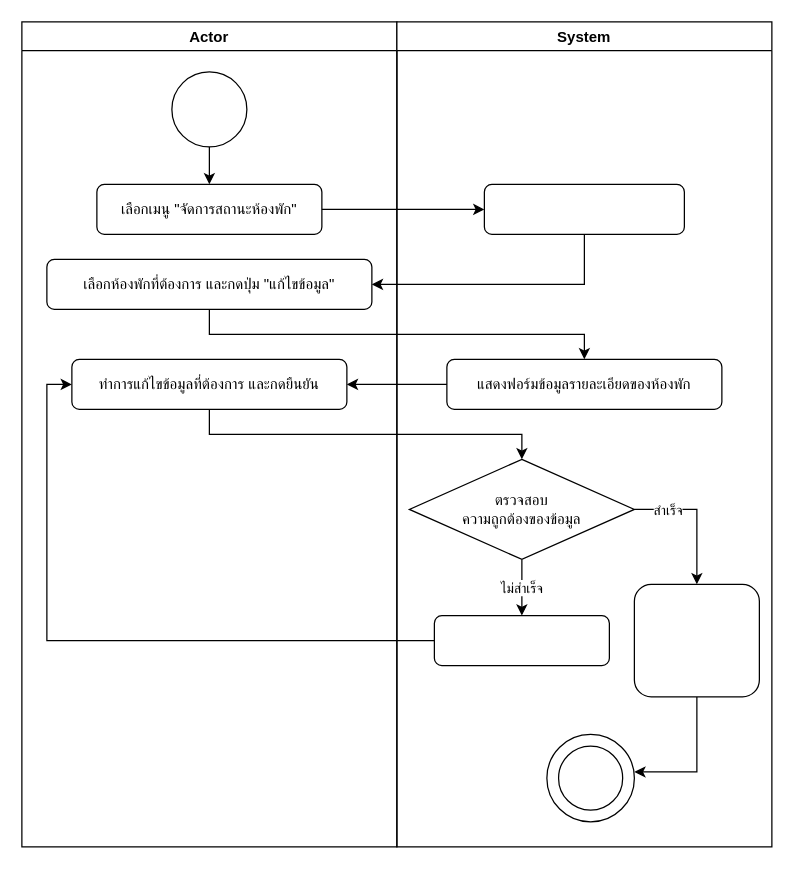
Image size: 794x869. Some labels were removed from this diagram. Here are the shapes that lost their labels. From the top down, the centre of each, then its label:
(583,208): แสดงรายการห้องพักทั้งหมด พร้อมสถานะปัจจุบัน
(521,640): แสดง Modal แจ้งเตือนข้อผิดพลาด
(696,640): บันทึกข้อมูลใหม่ และขึ้น Modal "แก้ไขข้อมูลห้องพักสำเร็จ"
